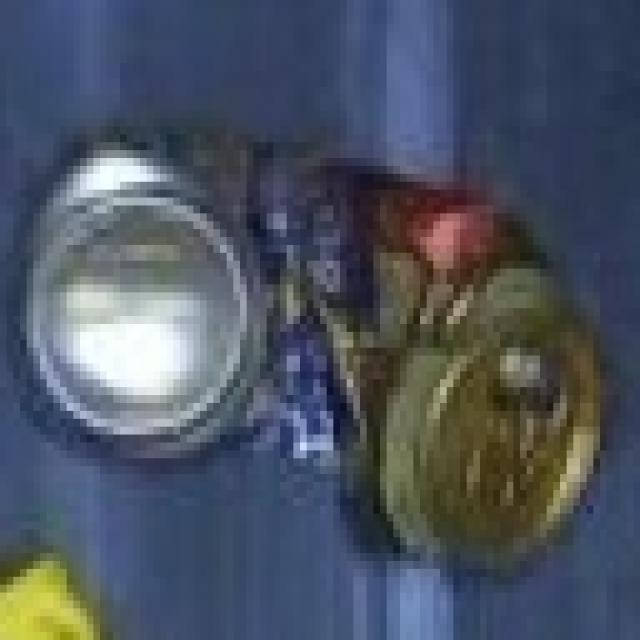litter: (1, 90, 640, 630)
